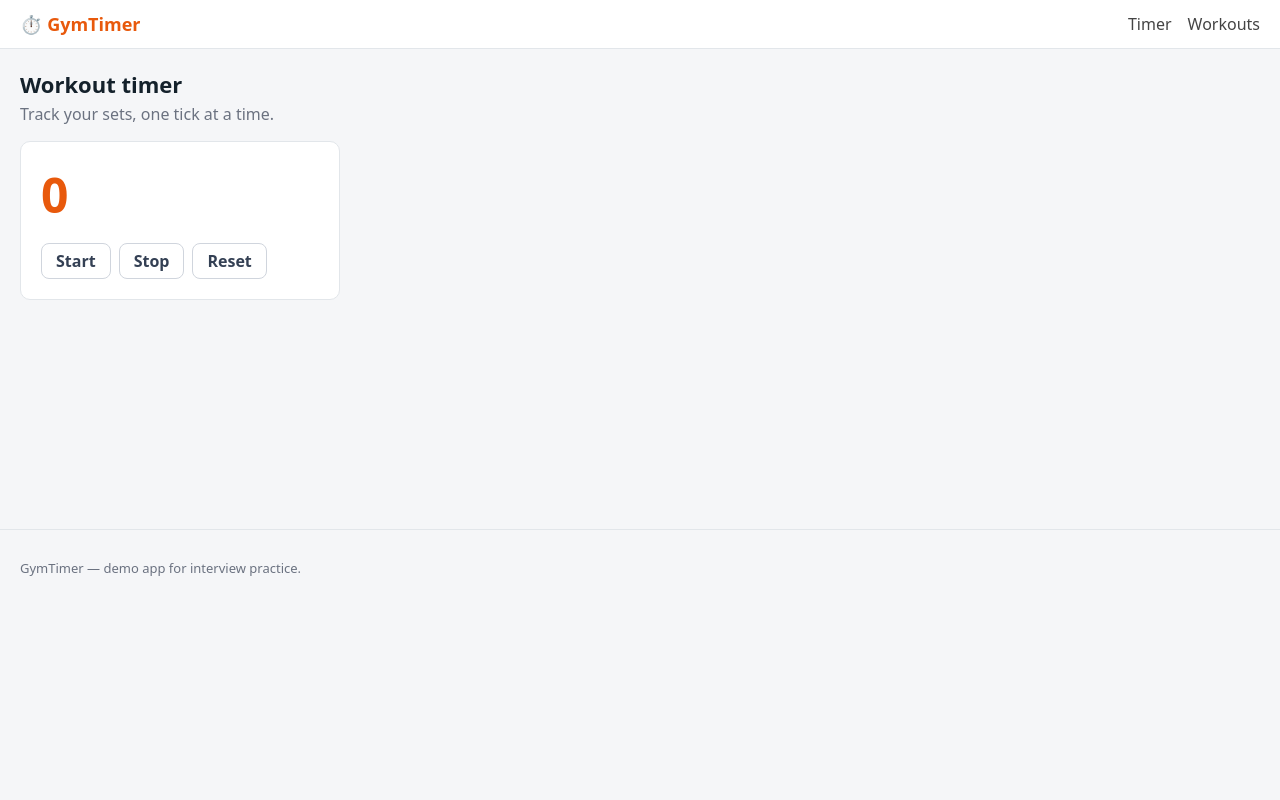
Scenario: m06 · GymTimer — app renders › navigates to the Workouts route via the navbar
Click the link with test id "nav-workouts". click: (1224, 24)
box: [1188, 13, 1260, 35]
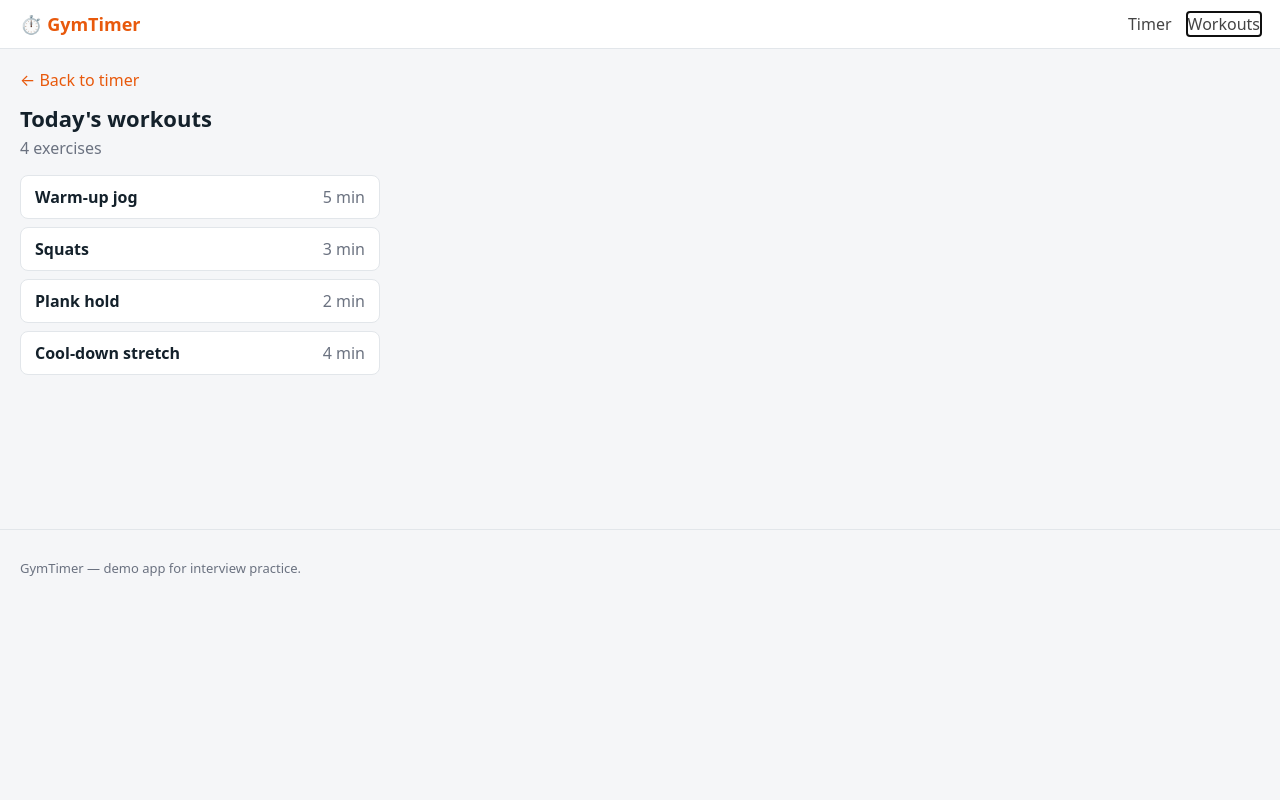
Expected: the element with test id "workouts-page" is shown, [20, 69, 380, 375]
